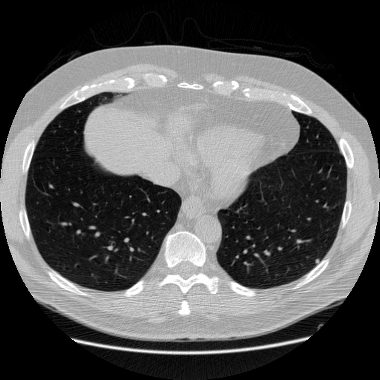nodule: (315, 259, 319, 263)
